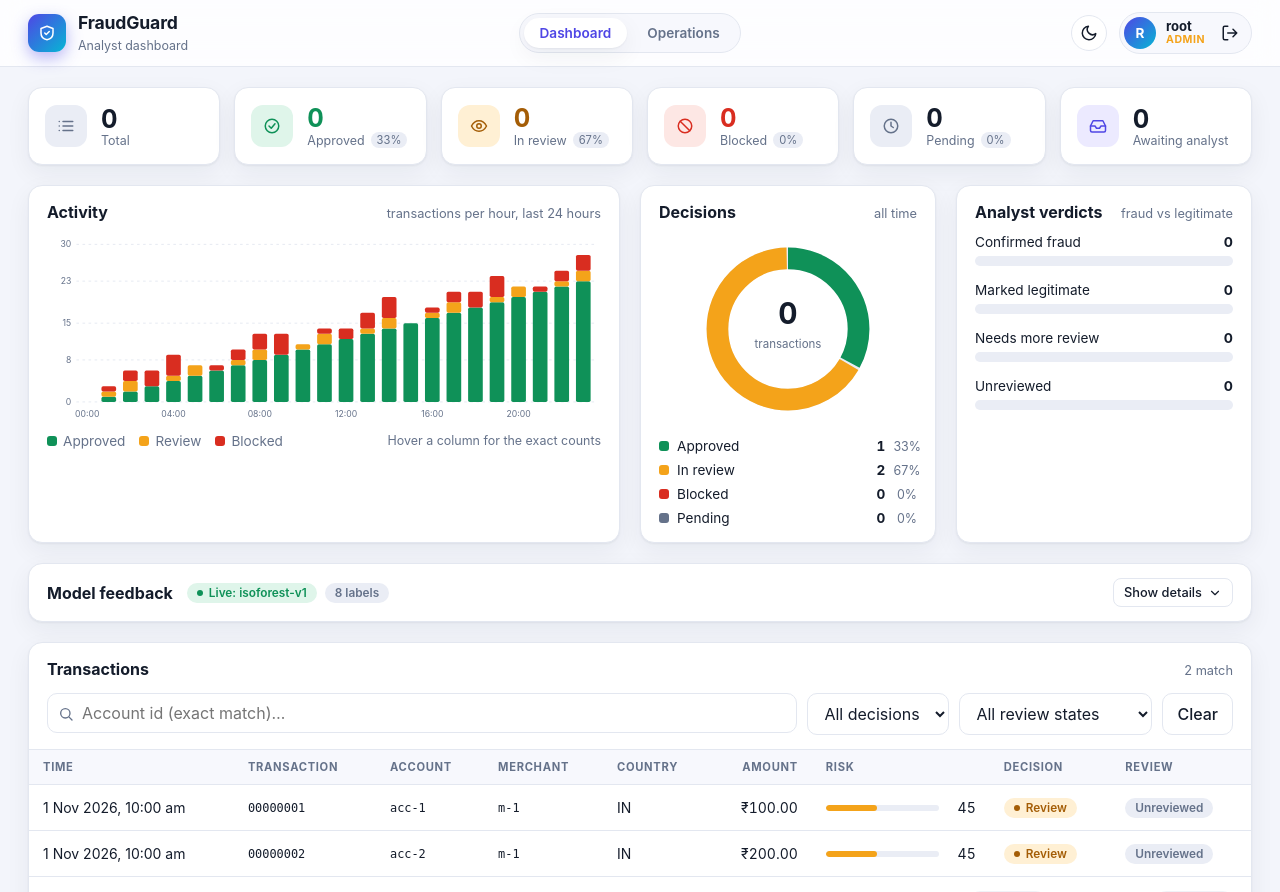
it: system status › shows each dependency and backlog
What coordinates should you click on to do the following:
click the button "Operations"
I would click on:
 (683, 33)
Its box is [631,18,736,48].
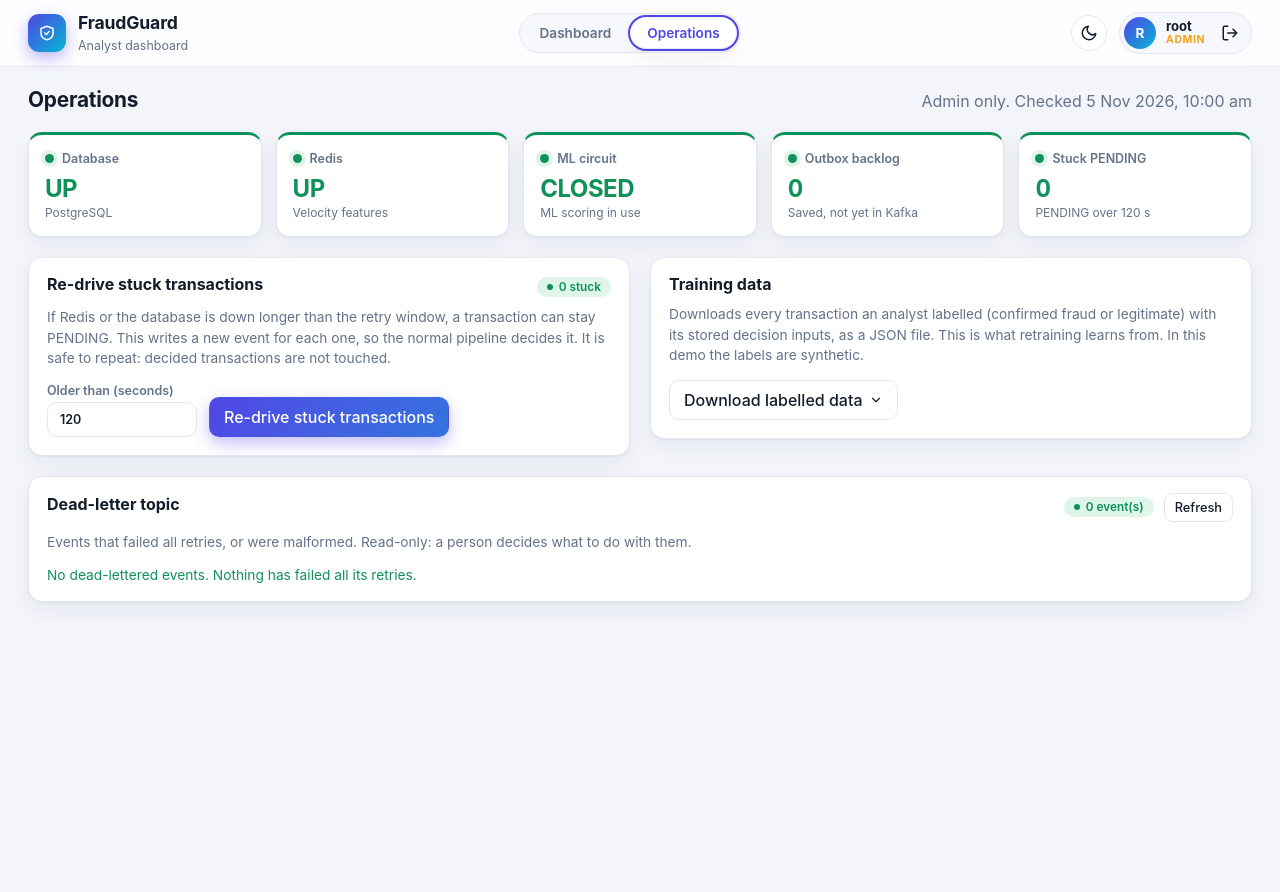
Expected: the text "Database" is shown, [45,151,119,166]
Expected: the text "UP" is shown 2 times, [45,174,77,203]; [293,174,325,203]
Expected: the text "CLOSED" is shown, [540,174,634,203]
